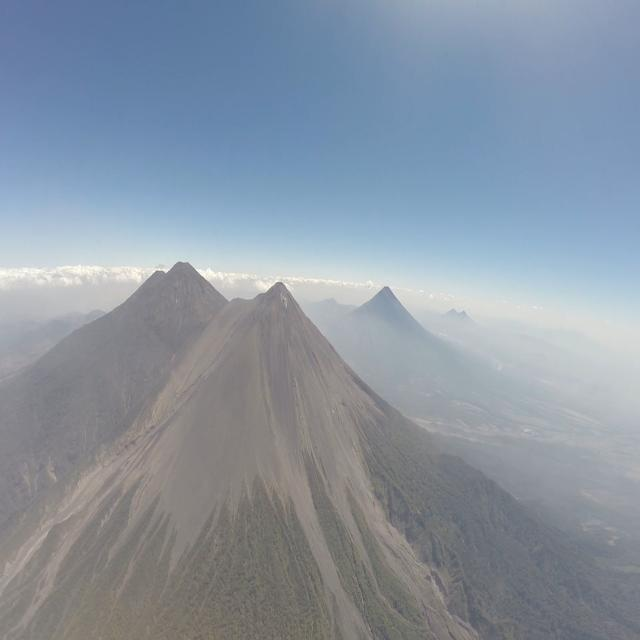Summit: (252, 279, 300, 308)
